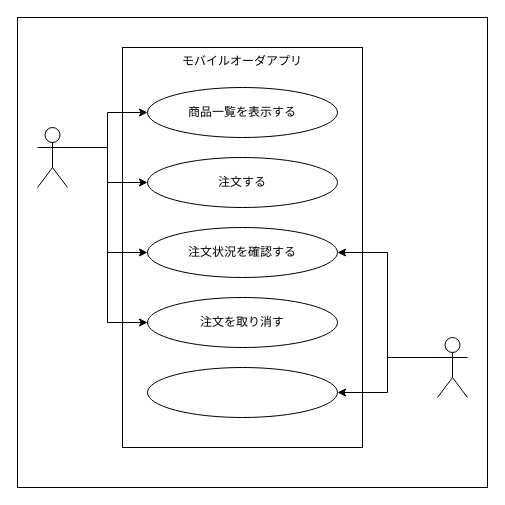
Some shapes in this 505 by 505 pixel diagram are drawn without their labels. The shapes that lost their labels are listed below. From the top down, each one's centre as x and y in pixels, then its label:
At (52,157): "お客様".
At (452,367): "店員".
At (242,392): "注文状況を完了にする".
